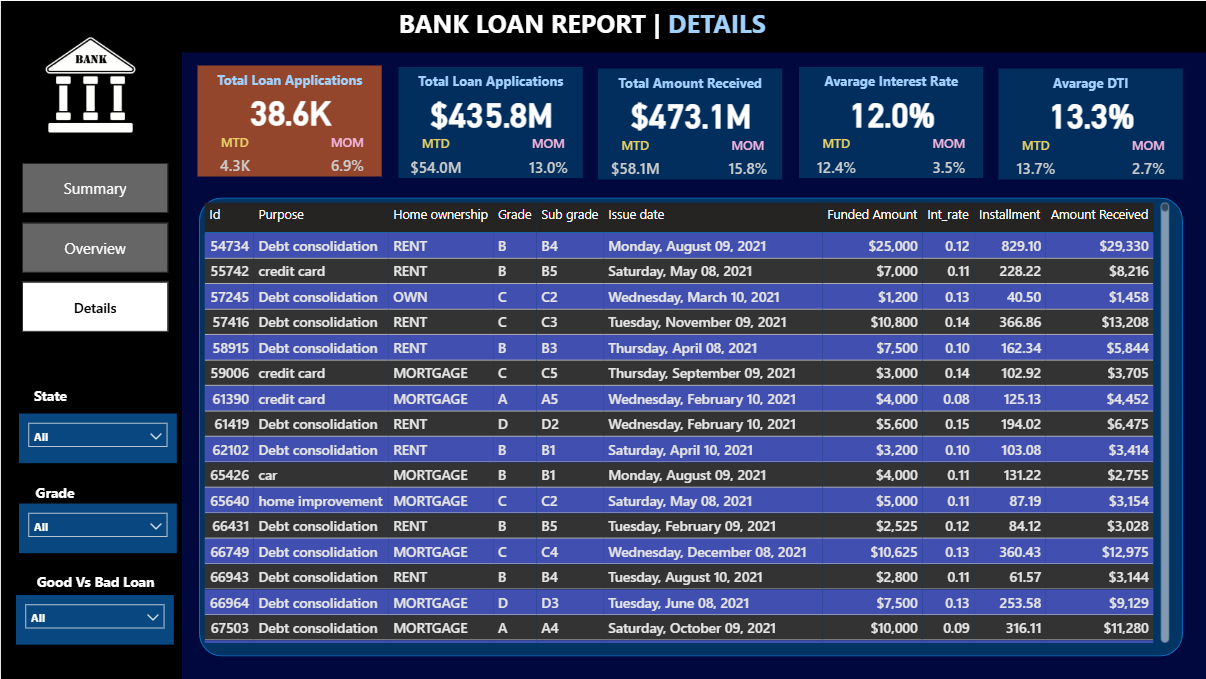

This screenshot's page, from the dashboard's own definition file:
{"tool":"powerbi","page":{"name":"Details","canvas":[1280,720],"ordinal":2},"visuals":[{"type":"shape","box":[208.4,68.4,195.6,117.7],"z":0,"group":"g1"},{"type":"shape","box":[421.5,70.3,195.6,117.7],"z":0,"group":"g2"},{"type":"shape","box":[846,70.3,195.6,117.7],"z":0,"group":"g4"},{"type":"shape","box":[633.7,71.7,195.6,117.7],"z":0,"group":"g3"},{"type":"shape","box":[1058.3,72.1,195.6,117.7],"z":0,"group":"g5"},{"type":"shape","box":[210,208.4,1043.4,486.7],"z":0},{"type":"shape","box":[0,0,1279.4,54.8],"z":1000},{"type":"card","fields":{"Values":["Bank loan data.Total Loan Applications"]},"box":[207.9,56.7,196.5,117.2],"z":1000,"group":"g1"},{"type":"card","fields":{"Values":["Bank loan data.Total Funded Amount"]},"box":[421,58.6,196.5,117.2],"z":1000,"group":"g2"},{"type":"card","fields":{"Values":["Bank loan data.Avg Interest Rate"]},"box":[845.5,58.6,196.5,117.2],"z":1000,"group":"g4"},{"type":"card","fields":{"Values":["Bank loan data.Total Amount Received"]},"box":[633.2,60,196.5,117.2],"z":1000,"group":"g3"},{"type":"card","fields":{"Values":["Bank loan data.Avg DTI"]},"box":[1057.8,60.4,196.5,117.2],"z":1000,"group":"g5"},{"type":"shape","box":[0,54.8,192,665.2],"z":2000},{"type":"textbox","box":[208.4,68.4,195.6,36.6],"z":2000,"group":"g1"},{"type":"textbox","box":[421.5,70.3,195.6,36.6],"z":2000,"group":"g2"},{"type":"textbox","box":[846,70.3,195.6,36.6],"z":2000,"group":"g4"},{"type":"textbox","box":[633.7,71.7,195.6,36.6],"z":2000,"group":"g3"},{"type":"textbox","box":[1058.3,72.1,195.6,36.6],"z":2000,"group":"g5"},{"type":"textbox","box":[416.7,0,447,55.7],"z":3000},{"type":"card","title":"MTD","fields":{"Values":["Bank loan data.MTD Loan Applications"]},"box":[209.8,139.9,75.6,54.8],"z":3000,"group":"g1"},{"type":"card","title":"MTD","fields":{"Values":["Bank loan data.MTD Funded Amount"]},"box":[422.9,141.8,75.6,54.8],"z":3000,"group":"g2"},{"type":"card","title":"MTD","fields":{"Values":["Bank loan data.MTD Avg Interest RAte"]},"box":[847.4,141.8,75.6,54.8],"z":3000,"group":"g4"},{"type":"card","title":"MTD","fields":{"Values":["Bank loan data.MTD Total Amount Received"]},"box":[635.1,143.2,75.6,54.8],"z":3000,"group":"g3"},{"type":"card","title":"MTD","fields":{"Values":["Bank loan data.MTD Avg DTI"]},"box":[1059.7,143.6,75.6,54.8],"z":3000,"group":"g5"},{"type":"group","id":"g1","title":"Group 1","box":[207.9,56.7,196.5,138],"z":4000},{"type":"card","title":"MOM","fields":{"Values":["Bank loan data.MOM Loan Applications"]},"box":[328.8,139.9,75.6,54.8],"z":4000,"group":"g1"},{"type":"card","title":"MOM","fields":{"Values":["Bank loan data.MOM Total Funded Amount"]},"box":[541.9,141.8,75.6,54.8],"z":4000,"group":"g2"},{"type":"card","title":"MOM","fields":{"Values":["Bank loan data.MOM Avg INterest Rate"]},"box":[966.4,141.8,75.6,54.8],"z":4000,"group":"g4"},{"type":"card","title":"MOM","fields":{"Values":["Bank loan data.MOM Total Amount Received"]},"box":[754.1,143.2,75.6,54.8],"z":4000,"group":"g3"},{"type":"card","title":"MOM","fields":{"Values":["Bank loan data.MOM Avg DTI"]},"box":[1178.7,143.6,75.6,54.8],"z":4000,"group":"g5"},{"type":"group","id":"g2","title":"Group 1","box":[421,58.6,195.7,137.1],"z":5000},{"type":"group","id":"g3","title":"Group 1","box":[633.2,60,195.7,137.1],"z":6000},{"type":"group","id":"g4","title":"Group 1","box":[845.5,58.6,195.7,137.1],"z":7000},{"type":"group","id":"g5","title":"Group 1","box":[1057.8,60.4,195.6,136.8],"z":8000},{"type":"tableEx","fields":{"Values":["Bank loan data.id","Bank loan data.purpose","Bank loan data.home_ownership","Bank loan data.grade","Bank loan data.sub_grade","Bank loan data.issue_date","Bank loan data.Total Funded Amount","Sum(Bank loan data.int_rate)","Sum(Bank loan data.installment)","Bank loan data.Total Amount Received"]},"box":[210,208.4,1033.9,477.2],"z":17000},{"type":"slicer","fields":{"Values":["Bank loan data.address_state"]},"box":[19.1,437.8,167,52.5],"z":17001},{"type":"textbox","box":[4.8,402.8,95.4,44.5],"z":17002},{"type":"slicer","fields":{"Values":["Bank loan data.grade"]},"box":[19.3,532.6,167,52.5],"z":17003},{"type":"textbox","box":[14.5,506,85.9,38.2],"z":17004},{"type":"slicer","fields":{"Values":["Bank loan data.Good vs Bad Loan"]},"box":[15.9,630.2,167,52.5],"z":17005},{"type":"textbox","box":[19.1,600,162.2,39.8],"z":17006},{"type":"image","box":[22.3,14.3,144.7,149.5],"z":17009},{"type":"pageNavigator","box":[22.3,171.8,155.9,181.3],"z":17010}]}

Visuals, with their boxes in screenshot pixels (x1, y1, x2, y2), scaled from the page's 1280x720 canvas onto the 1206x679 screenshot:
shape: {"left": 196, "top": 65, "right": 381, "bottom": 176}
shape: {"left": 397, "top": 66, "right": 581, "bottom": 177}
shape: {"left": 797, "top": 66, "right": 981, "bottom": 177}
shape: {"left": 597, "top": 68, "right": 781, "bottom": 179}
shape: {"left": 997, "top": 68, "right": 1181, "bottom": 179}
shape: {"left": 198, "top": 197, "right": 1181, "bottom": 656}
shape: {"left": 0, "top": 0, "right": 1205, "bottom": 52}
card - Bank loan data.Total Loan Applications: {"left": 196, "top": 53, "right": 381, "bottom": 164}
card - Bank loan data.Total Funded Amount: {"left": 397, "top": 55, "right": 582, "bottom": 166}
card - Bank loan data.Avg Interest Rate: {"left": 797, "top": 55, "right": 982, "bottom": 166}
card - Bank loan data.Total Amount Received: {"left": 597, "top": 57, "right": 782, "bottom": 167}
card - Bank loan data.Avg DTI: {"left": 997, "top": 57, "right": 1182, "bottom": 167}
shape: {"left": 0, "top": 52, "right": 181, "bottom": 678}
textbox: {"left": 196, "top": 65, "right": 381, "bottom": 99}
textbox: {"left": 397, "top": 66, "right": 581, "bottom": 101}
textbox: {"left": 797, "top": 66, "right": 981, "bottom": 101}
textbox: {"left": 597, "top": 68, "right": 781, "bottom": 102}
textbox: {"left": 997, "top": 68, "right": 1181, "bottom": 103}
textbox: {"left": 393, "top": 0, "right": 814, "bottom": 53}
"MTD" card: {"left": 198, "top": 132, "right": 269, "bottom": 184}
"MTD" card: {"left": 398, "top": 134, "right": 470, "bottom": 185}
"MTD" card: {"left": 798, "top": 134, "right": 870, "bottom": 185}
"MTD" card: {"left": 598, "top": 135, "right": 670, "bottom": 187}
"MTD" card: {"left": 998, "top": 135, "right": 1070, "bottom": 187}
"Group 1" group: {"left": 196, "top": 53, "right": 381, "bottom": 184}
"MOM" card: {"left": 310, "top": 132, "right": 381, "bottom": 184}
"MOM" card: {"left": 511, "top": 134, "right": 582, "bottom": 185}
"MOM" card: {"left": 911, "top": 134, "right": 982, "bottom": 185}
"MOM" card: {"left": 711, "top": 135, "right": 782, "bottom": 187}
"MOM" card: {"left": 1111, "top": 135, "right": 1182, "bottom": 187}
"Group 1" group: {"left": 397, "top": 55, "right": 581, "bottom": 185}
"Group 1" group: {"left": 597, "top": 57, "right": 781, "bottom": 186}
"Group 1" group: {"left": 797, "top": 55, "right": 981, "bottom": 185}
"Group 1" group: {"left": 997, "top": 57, "right": 1181, "bottom": 186}
tableEx - Bank loan data.id x Bank loan data.purpose: {"left": 198, "top": 197, "right": 1172, "bottom": 647}
slicer - Bank loan data.address_state: {"left": 18, "top": 413, "right": 175, "bottom": 462}
textbox: {"left": 5, "top": 380, "right": 94, "bottom": 422}
slicer - Bank loan data.grade: {"left": 18, "top": 502, "right": 176, "bottom": 552}
textbox: {"left": 14, "top": 477, "right": 95, "bottom": 513}
slicer - Bank loan data.Good vs Bad Loan: {"left": 15, "top": 594, "right": 172, "bottom": 644}
textbox: {"left": 18, "top": 566, "right": 171, "bottom": 603}
image: {"left": 21, "top": 13, "right": 157, "bottom": 154}
pageNavigator: {"left": 21, "top": 162, "right": 168, "bottom": 333}
